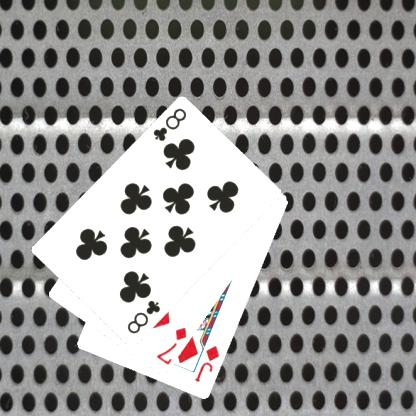7D: (154, 324, 188, 366)
8C: (124, 297, 162, 336), (149, 106, 188, 143)
JD: (192, 343, 221, 384)
